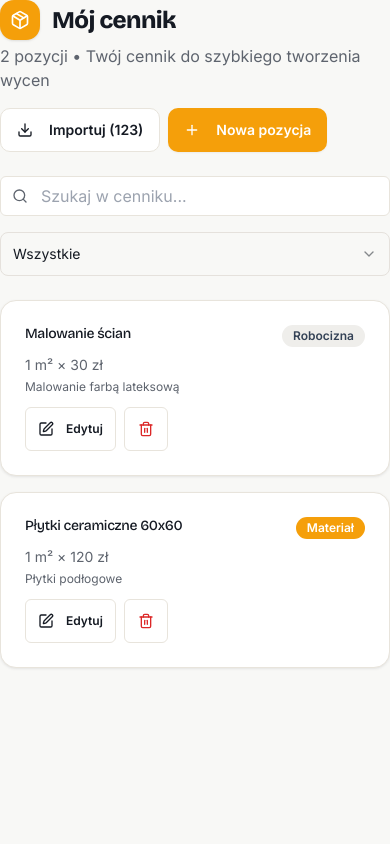
Test: ItemTemplates › edit template › should open edit dialog with pre-filled name when Edit is clicked
The image size is (390, 844).
Click the button "Edytuj" below "Malowanie farbą lateksową": x=70, y=429 [25, 407, 116, 451]
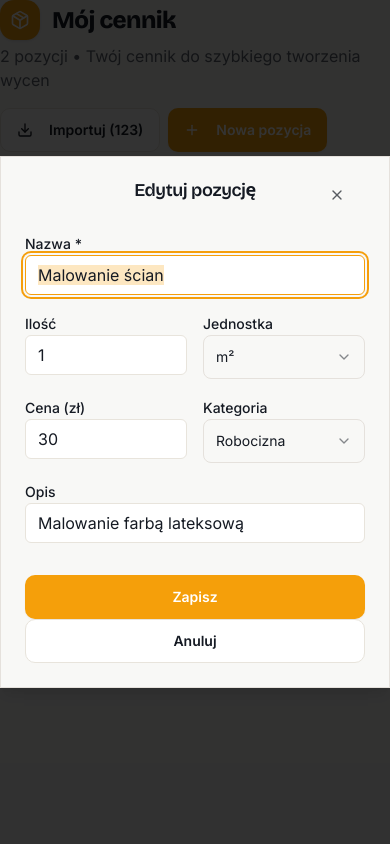
Now the dialog is shown
Now the field with placeholder "np. Płytki ceramiczne 60x60" below "Nazwa" holds "Malowanie ścian", box [25, 255, 365, 295]
